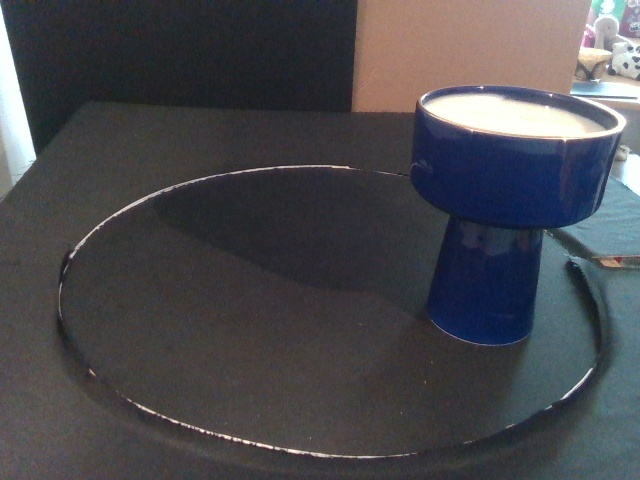candle: (411, 85, 627, 347)
